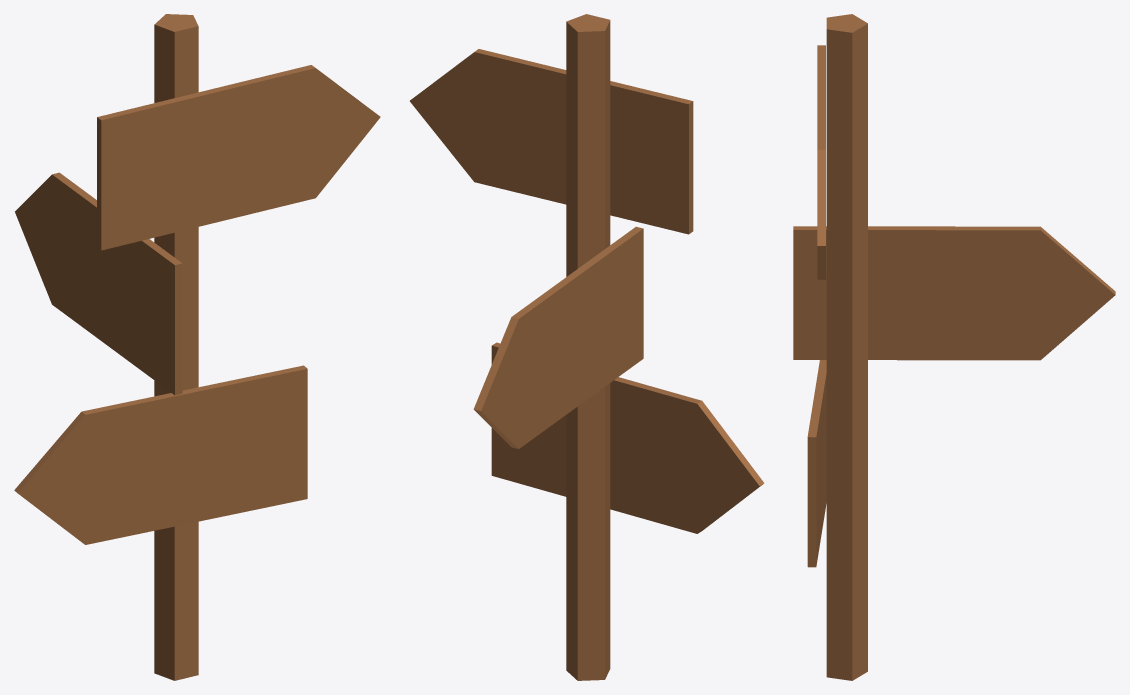
Rendered from Sign.fbx.
3 renders of one model, left to right at view 1: azimuth 30°, elevation 25°; view 2: azimuth 150°, elevation 25°; view 3: azimuth 270°, elevation 25°, orthographic.
Parts seen in each view (by area): view 1: Sign; view 2: Sign; view 3: Sign.
Part boxes in pixels (x1=…): Sign: x1=14, y1=14, x2=380, y2=680; Sign: x1=410, y1=14, x2=764, y2=680; Sign: x1=793, y1=14, x2=1115, y2=680.
Bounding box in the file's own units: 576 × 1001 × 451.
